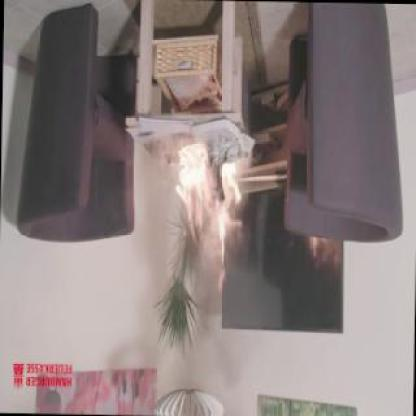Fire: (172, 145, 250, 279)
